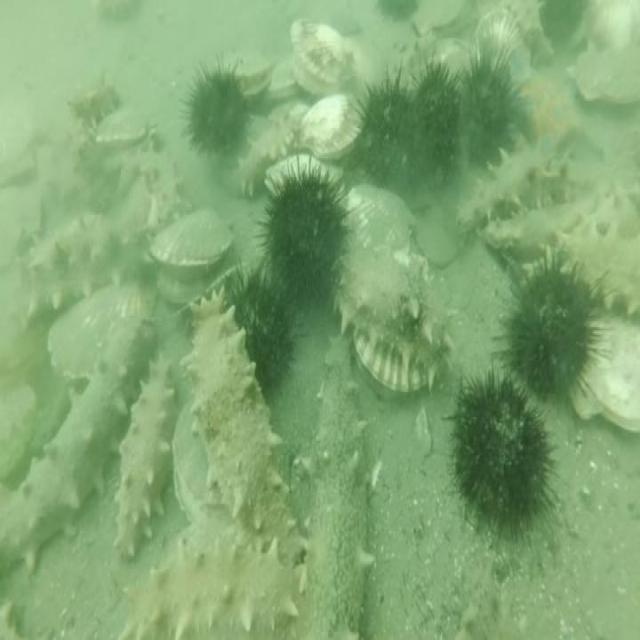echinus: (444, 362, 561, 550), (498, 248, 612, 408), (258, 156, 348, 312), (217, 259, 296, 402), (351, 68, 419, 186), (454, 49, 524, 163), (180, 52, 249, 163), (407, 54, 466, 174), (539, 0, 585, 47), (376, 0, 422, 28)
holothurian: (1, 327, 137, 577), (183, 286, 288, 529), (295, 358, 376, 640), (119, 532, 301, 640), (331, 250, 461, 373), (111, 348, 178, 566), (519, 223, 640, 316), (452, 140, 569, 236), (450, 551, 562, 640), (481, 193, 597, 264), (18, 264, 141, 324), (24, 210, 122, 280), (234, 109, 306, 199), (125, 139, 184, 226), (504, 0, 556, 66), (66, 72, 125, 130)
scallop: (45, 275, 159, 389), (569, 311, 640, 441), (152, 206, 234, 314), (170, 390, 225, 538), (350, 322, 442, 393), (287, 14, 361, 98), (570, 32, 640, 108), (292, 91, 366, 162), (341, 184, 417, 252), (0, 84, 39, 188), (265, 152, 347, 200), (0, 186, 45, 273), (566, 0, 640, 52), (473, 6, 525, 70), (210, 49, 274, 100), (410, 0, 476, 44), (92, 106, 148, 150), (262, 52, 302, 100)
starfish: (506, 52, 608, 166)
